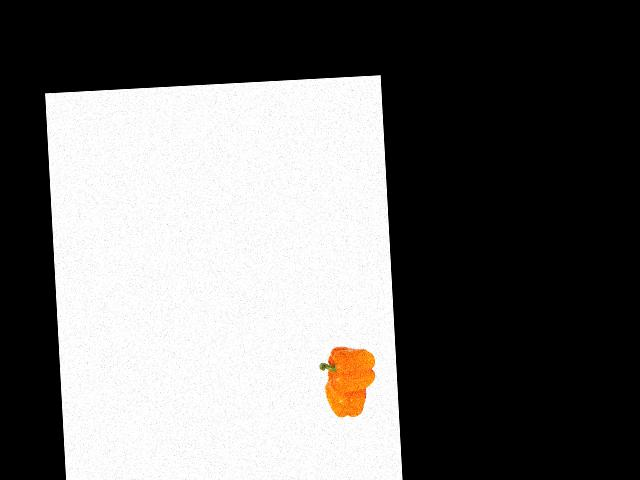bell_pepper: (323, 375, 373, 421)
